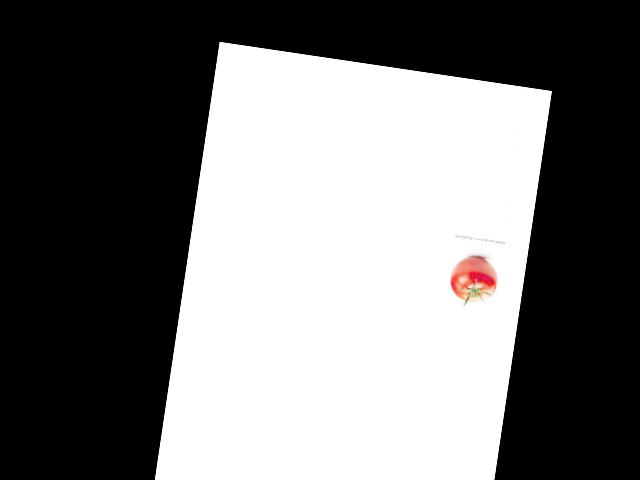tomato: (447, 253, 499, 305)
